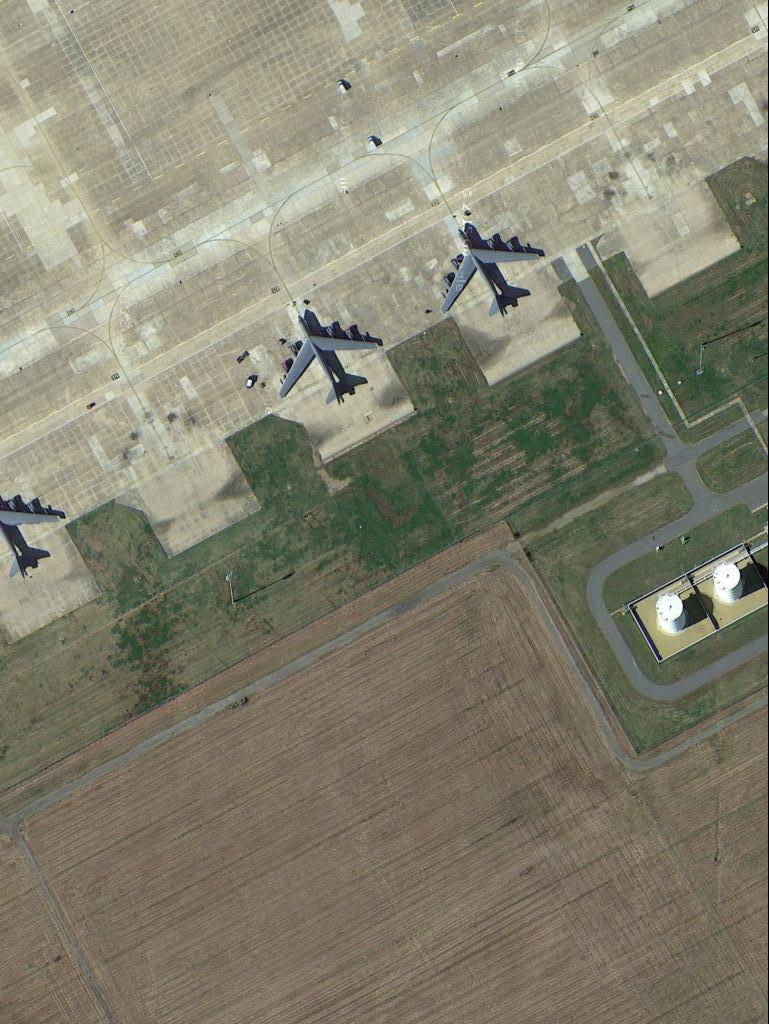B-52: (435, 225, 545, 325), (276, 314, 385, 412)
